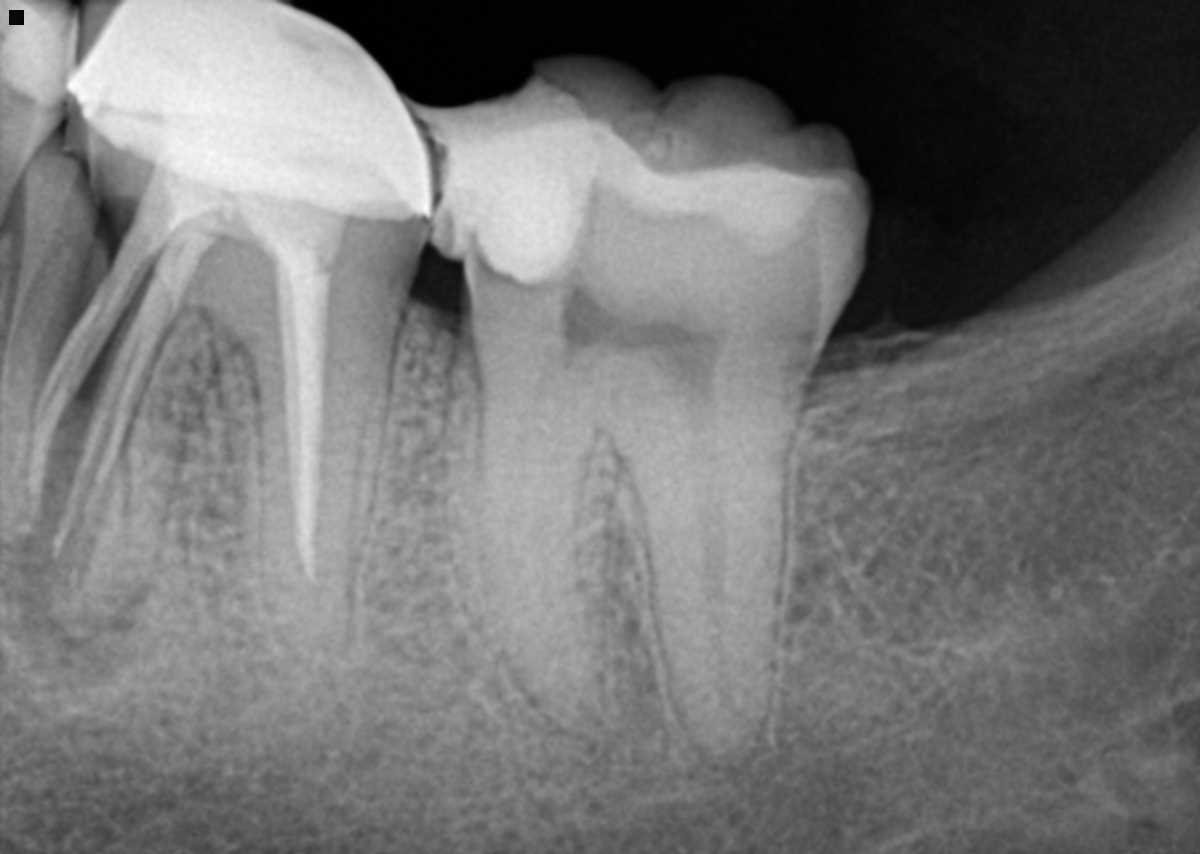Distal Canal: (688, 403, 757, 735)
Distal Root: (618, 387, 810, 775)
Mesial Root: (441, 376, 606, 731), (248, 304, 405, 674), (64, 307, 209, 633)
Root Canal Filling: (30, 174, 233, 553), (276, 255, 334, 580)
